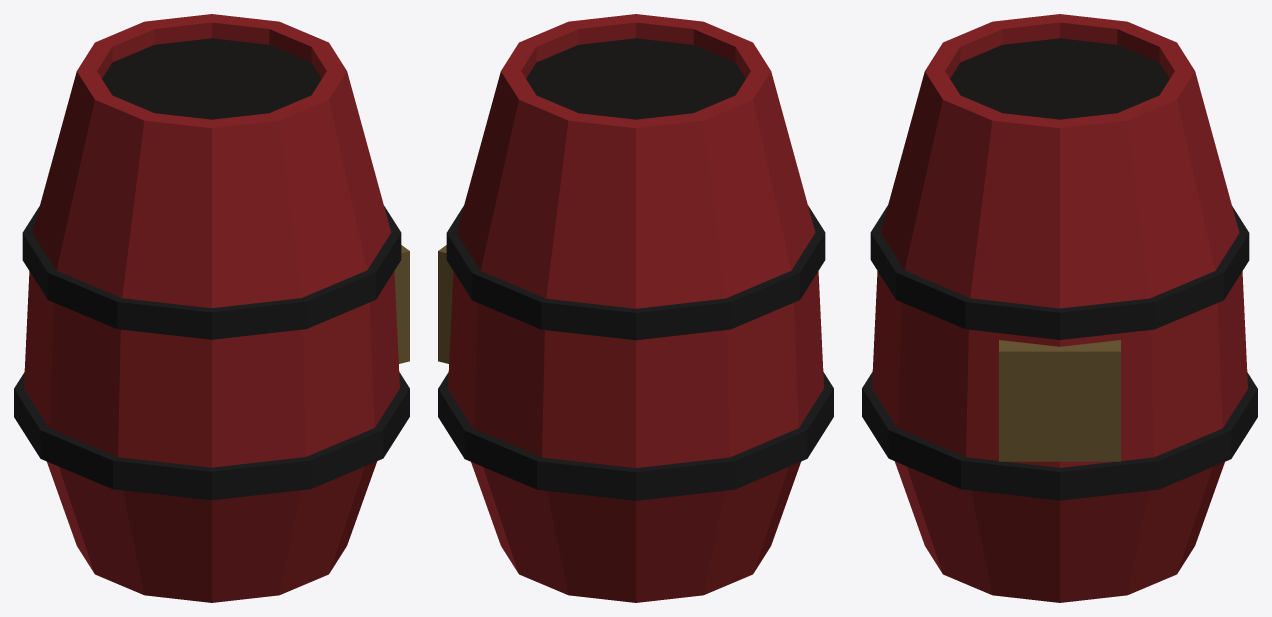
File: ExplosiveBarrel.fbx
3 renders of one model, left to right at view 1: azimuth 30°, elevation 25°; view 2: azimuth 150°, elevation 25°; view 3: azimuth 270°, elevation 25°, orthographic.
Parts seen in each view (by area): view 1: Cylinder; view 2: Cylinder; view 3: Cylinder.
Boxes of the visible parts, box(x1,y1,x2,y2) form: Cylinder: box(14, 14, 409, 602); Cylinder: box(438, 14, 833, 602); Cylinder: box(862, 14, 1257, 602).
Size of the model in its own units: 176 by 233 by 176.
